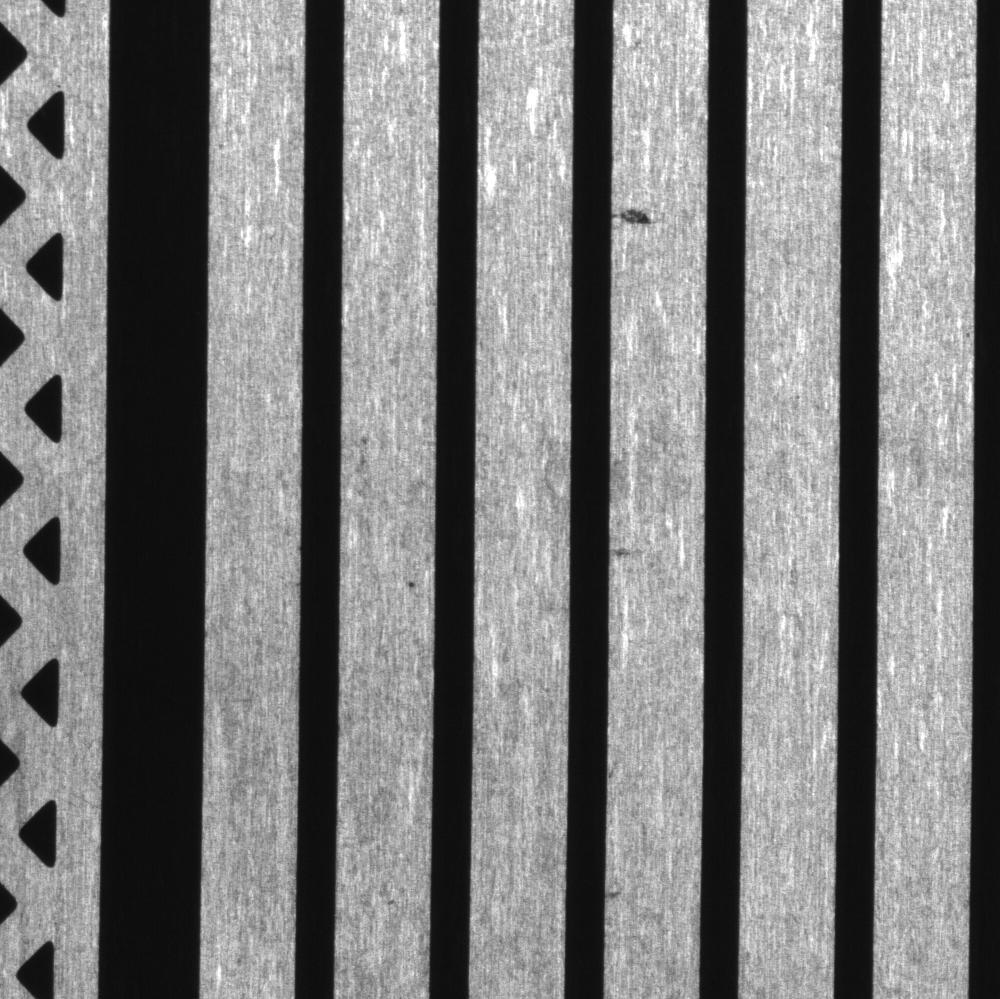Etching: (612, 202, 668, 229), (613, 534, 647, 565), (604, 881, 631, 899)
Pinhole: (396, 569, 426, 598)
